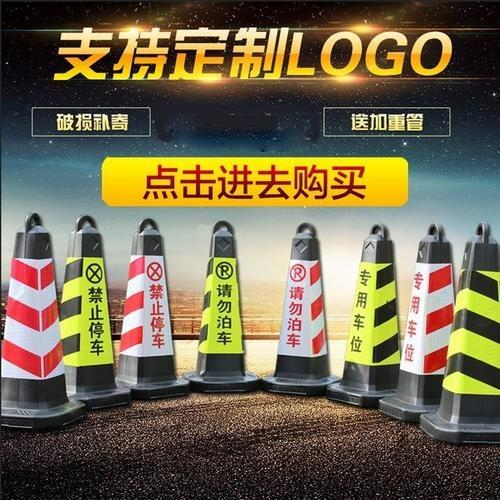cone_barrel: (1, 218, 78, 426), (430, 222, 498, 430), (185, 218, 257, 390), (264, 222, 335, 395), (57, 215, 123, 399), (388, 224, 454, 408), (114, 224, 184, 395), (335, 221, 399, 396)
